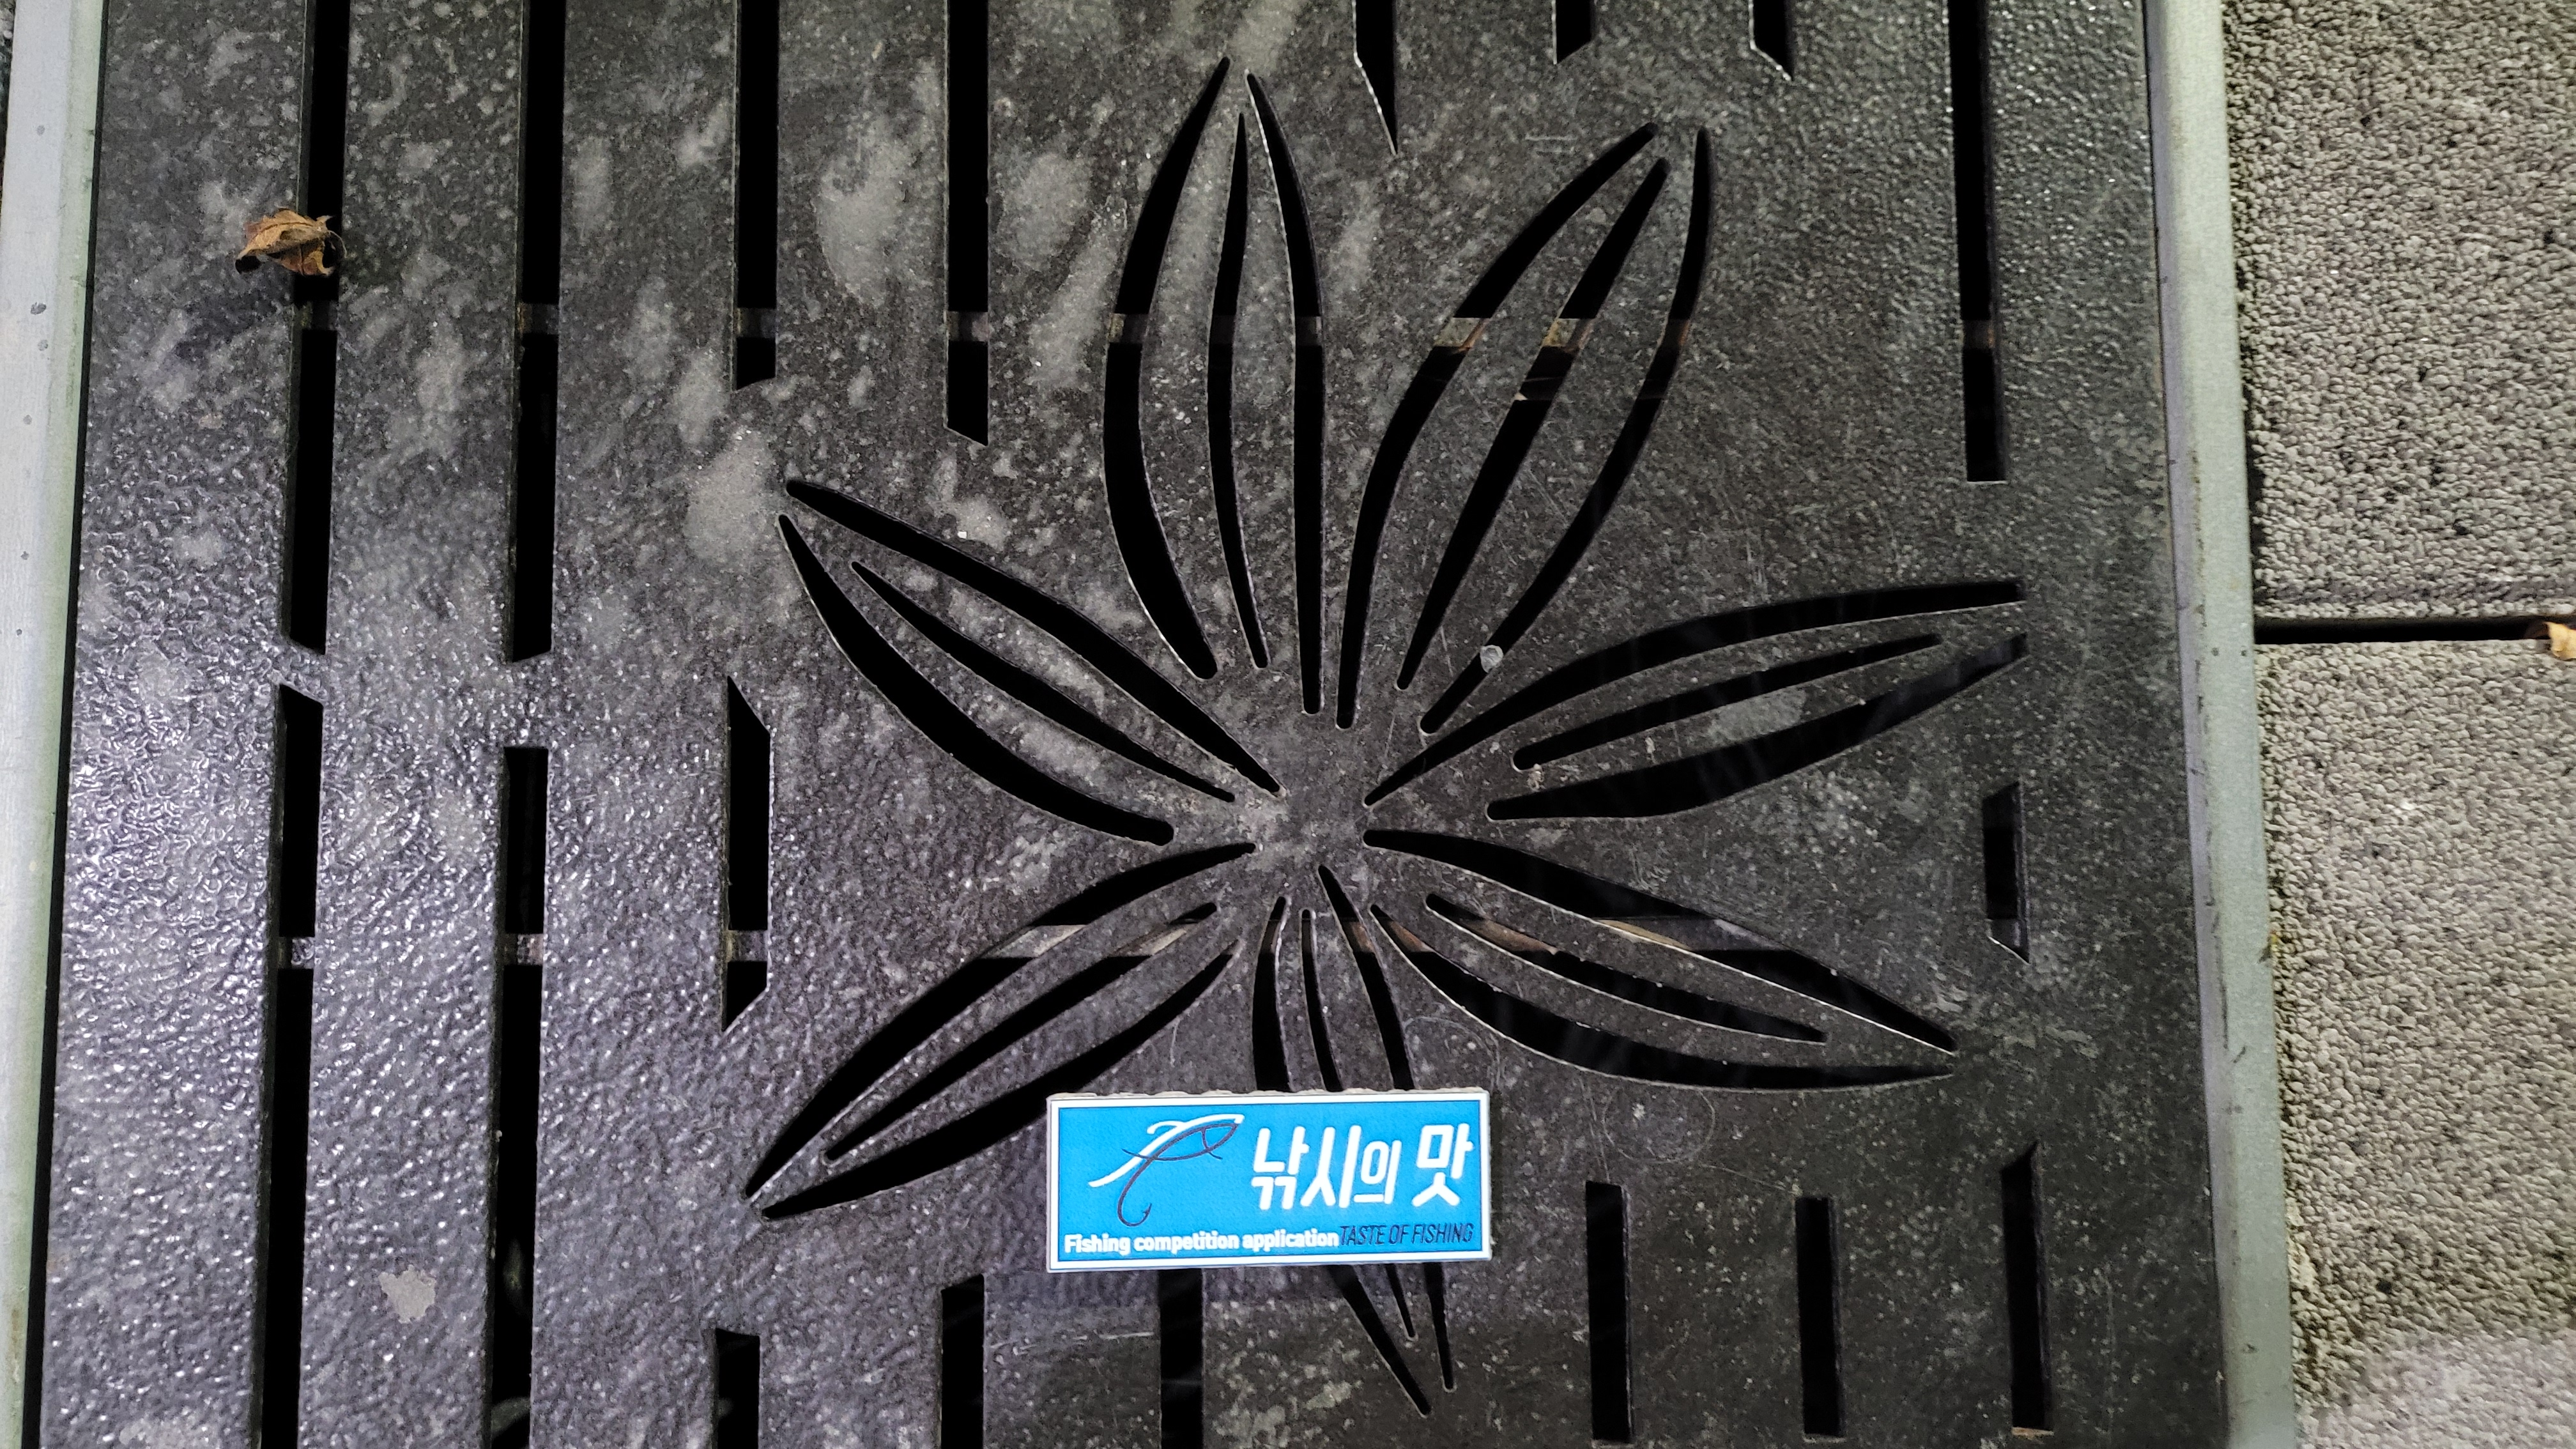tag: (1049, 1095, 1490, 1263)
